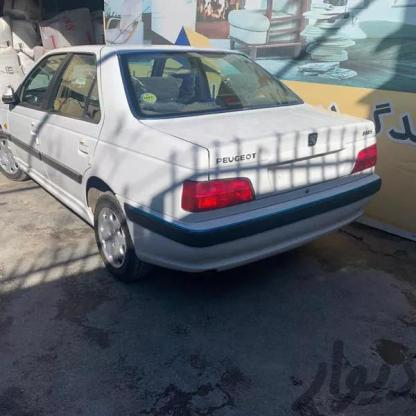Car: (0, 42, 382, 298)
